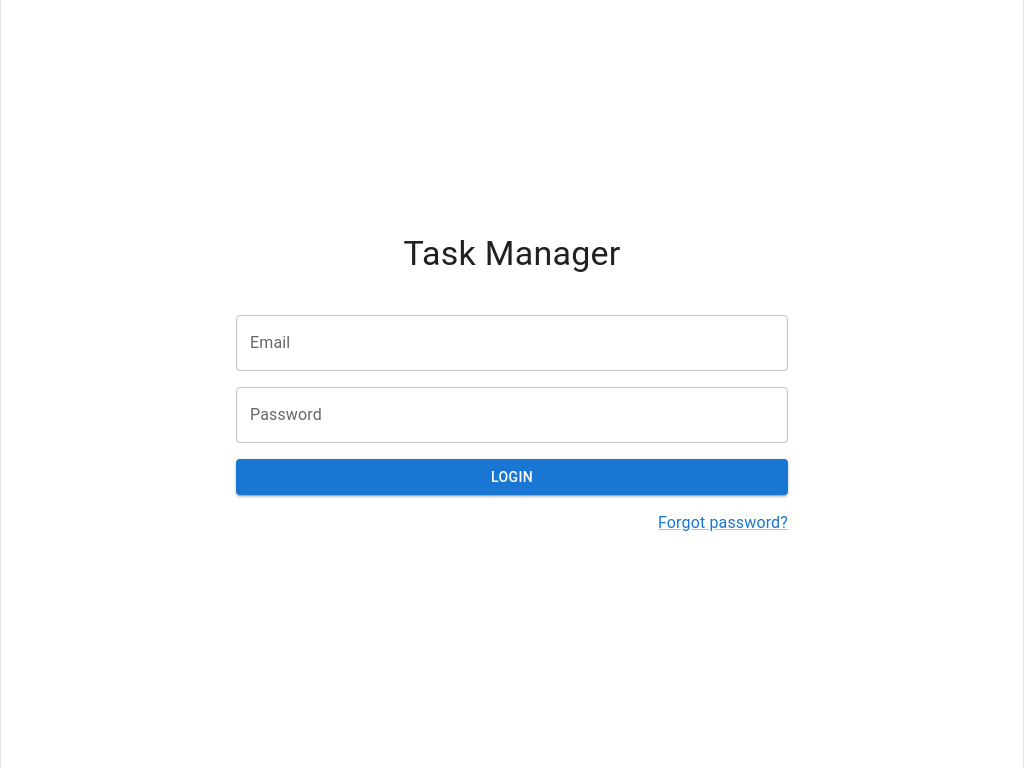
it: Login Component › shows loading state during login
In the field labelled "Email": [512, 343] box [236,315,788,371], type "john@test.com"
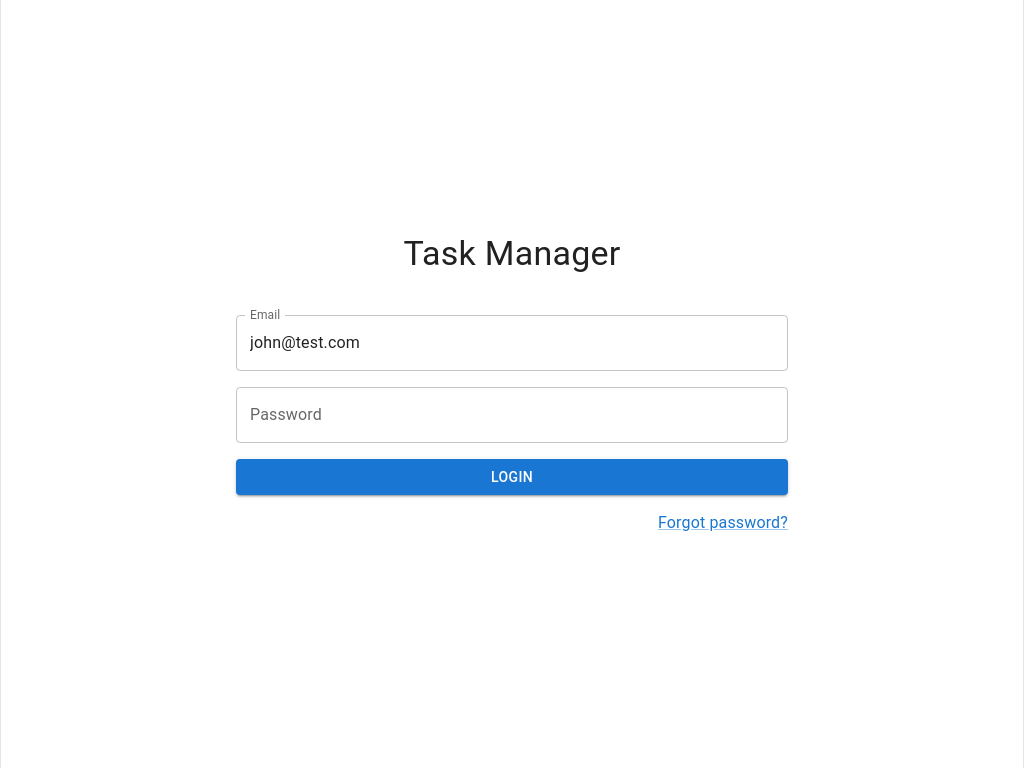
In the password field labelled "Password": [512, 415] box [236,387,788,443], type "password123"
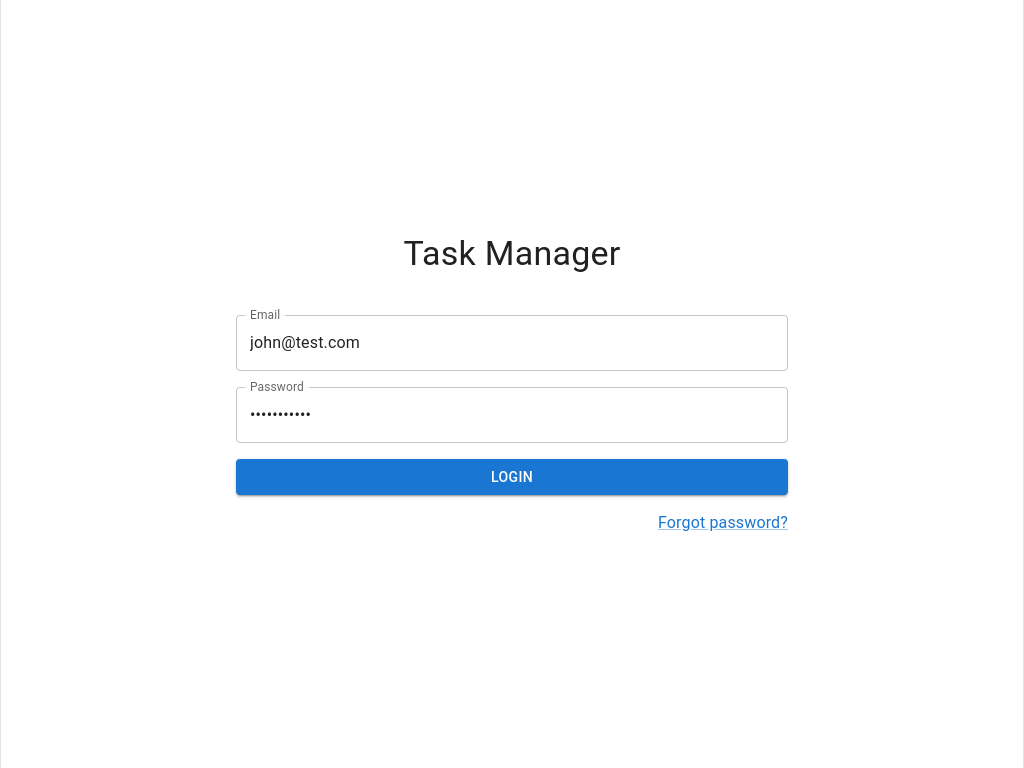
Click the button "Login": [512, 477] box [236,459,788,495]
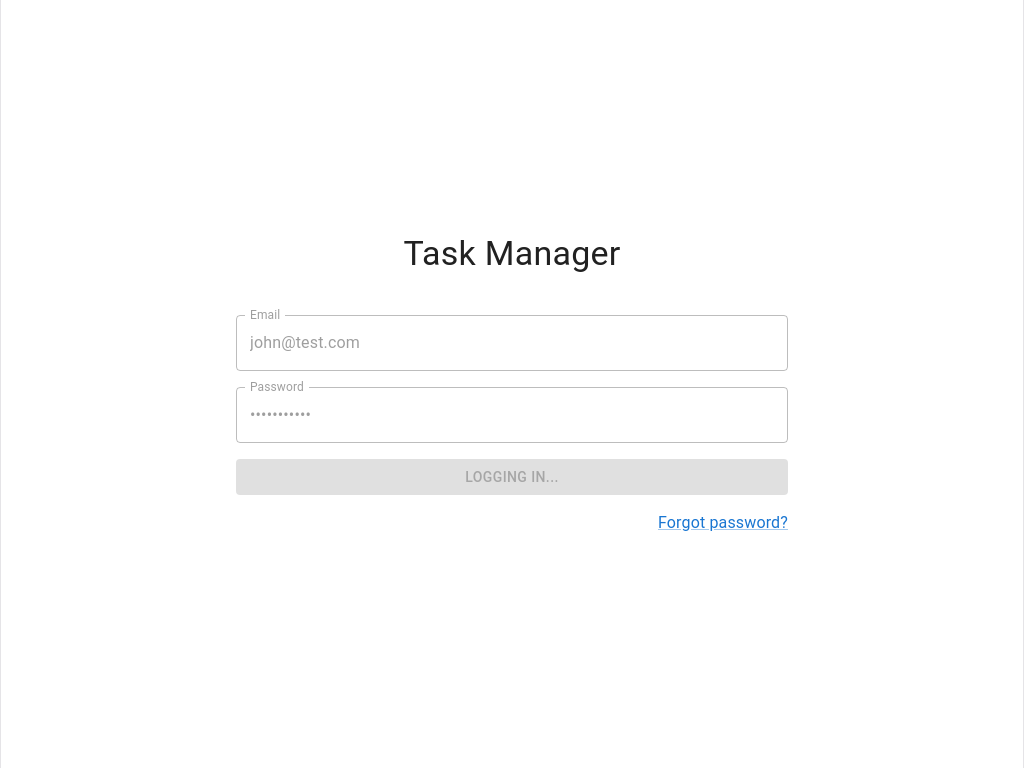
Expected: the button "Logging in..." is shown, [236,459,788,495]
